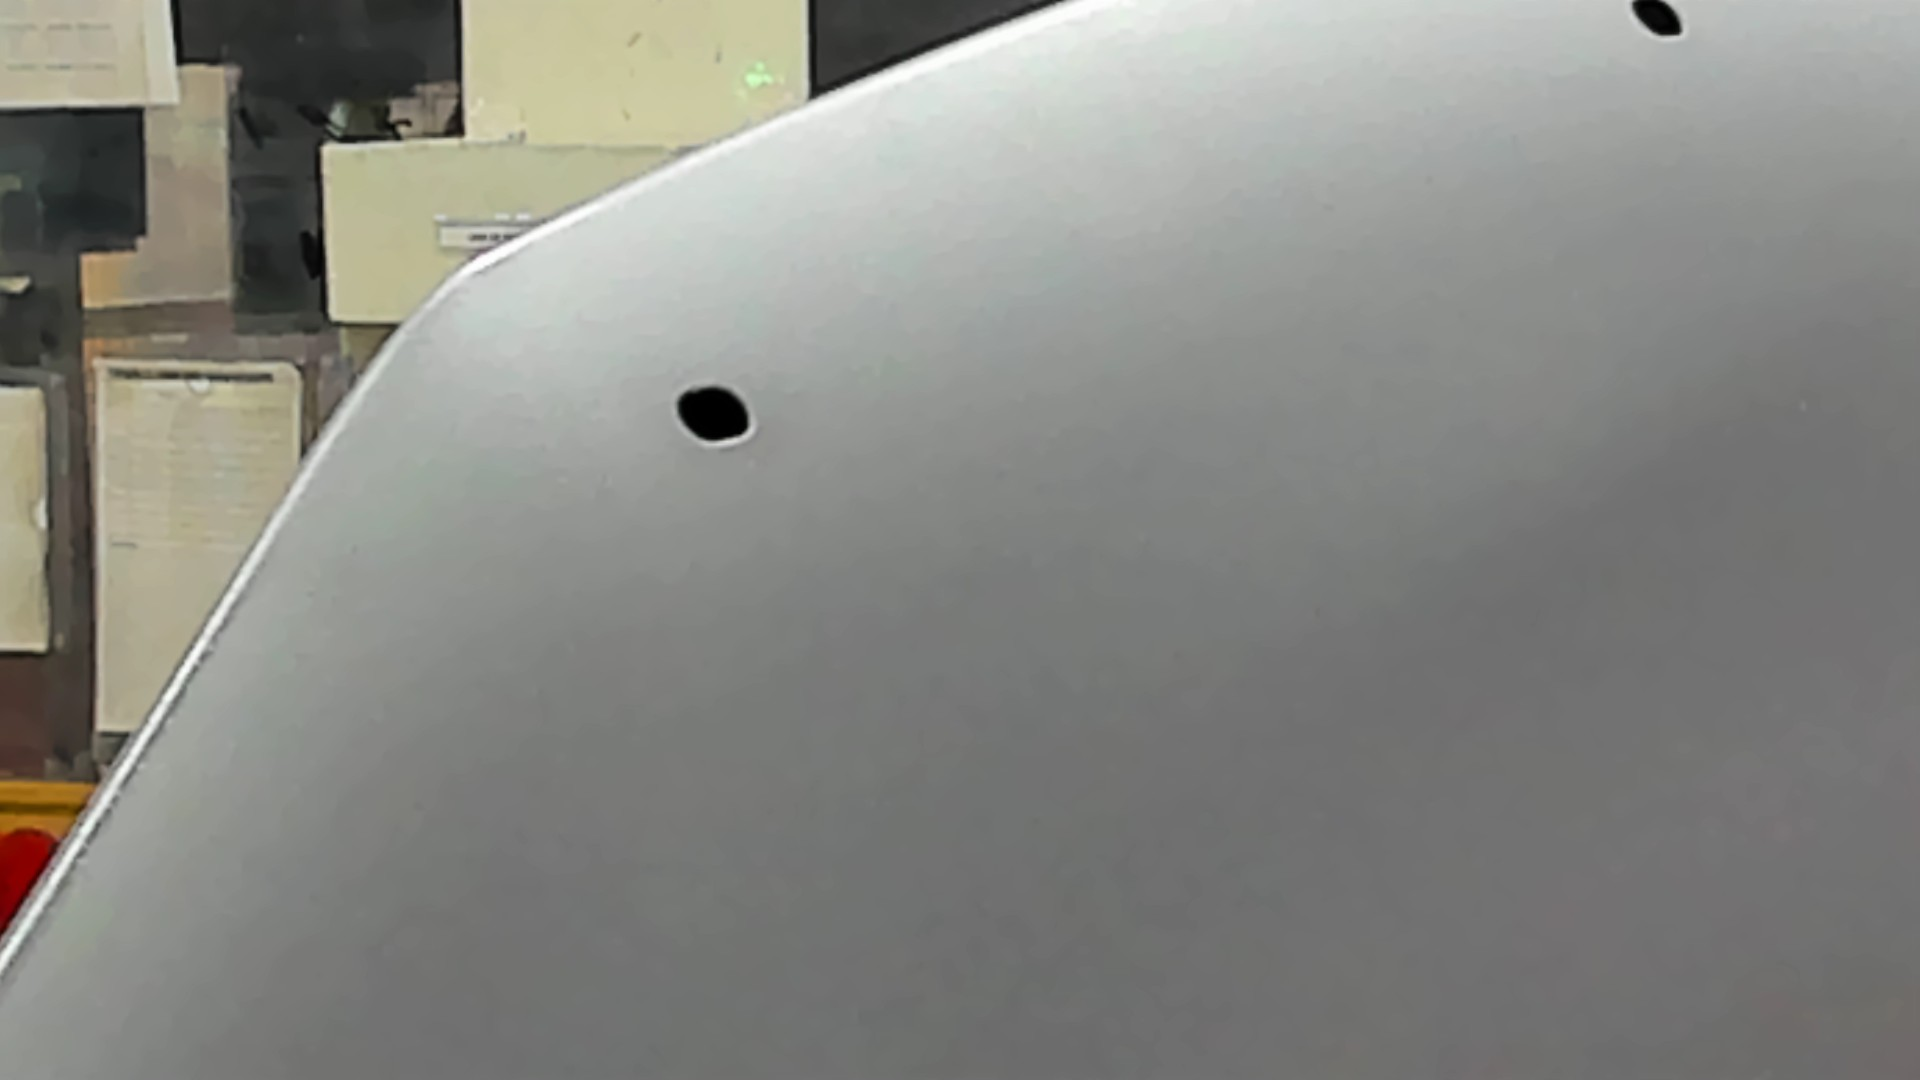chico: (671, 376, 761, 454), (1621, 1, 1689, 42)
